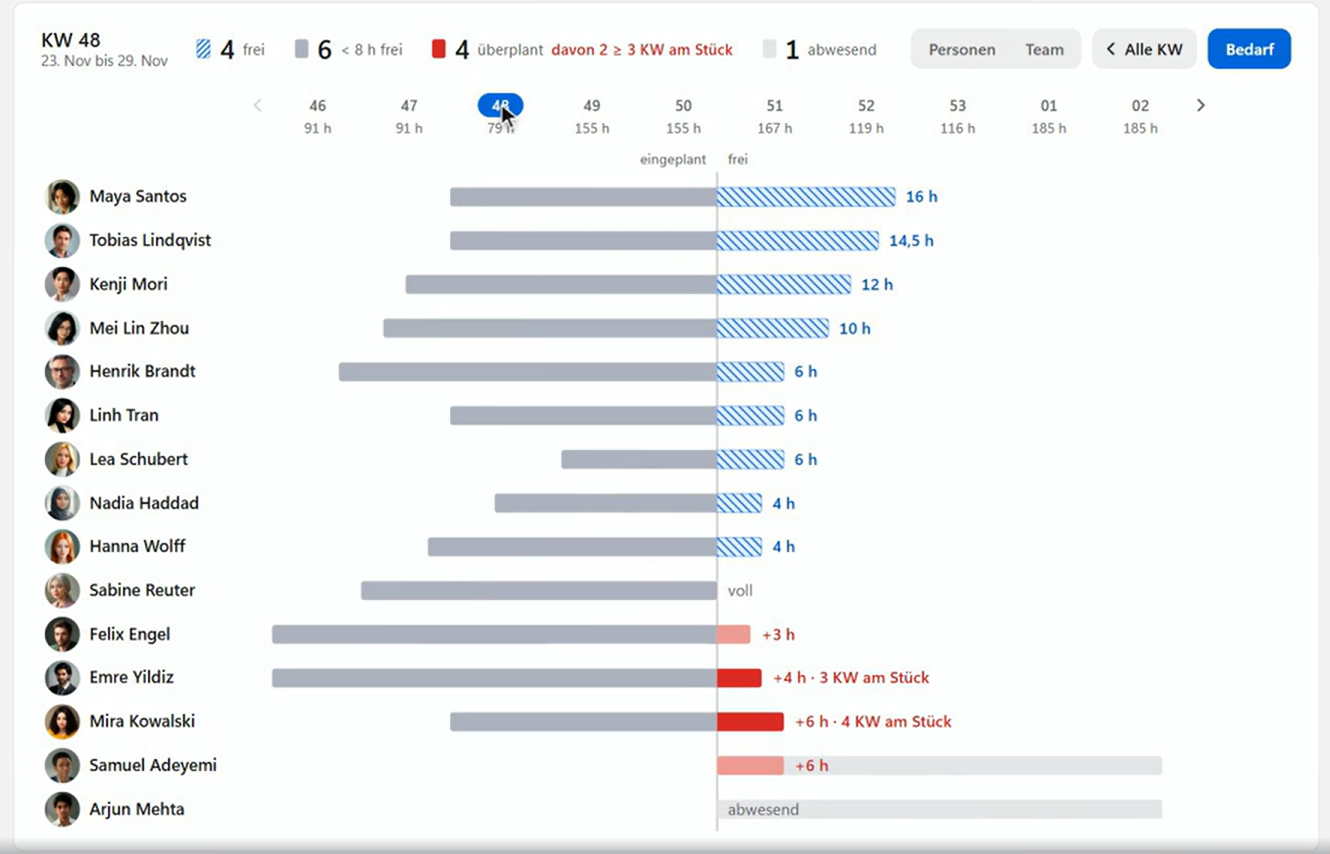

This screenshot's page, from the dashboard's own definition file:
{"tool":"powerbi","page":{"name":"Page 1","canvas":[1660,1720],"ordinal":0},"visuals":[{"type":"htmlContent443BE3AD55E043BF878BED274D3A6855","fields":{"content":["_Measure.HTML Ressourcenplanung"]},"box":[0,0,1660,1720],"z":0}]}

Visuals, with their boxes on the page's 1660x1720 design canvas (x1, y1, x2, y2). These are canvas units, not pixel positions in the 1330x854 screenshot, which may show the page scaled, cropped or inside an application window:
htmlContent443BE3AD55E043BF878BED274D3A6855 - _Measure.HTML Ressourcenplanung: (x1=0, y1=0, x2=1660, y2=1720)
